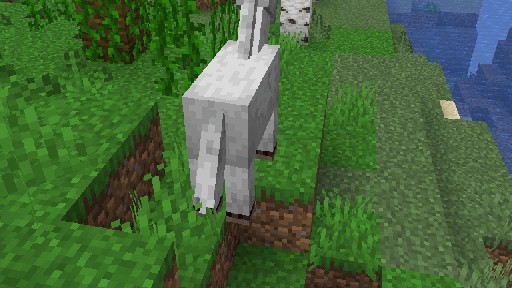horse: (181, 0, 280, 226)
